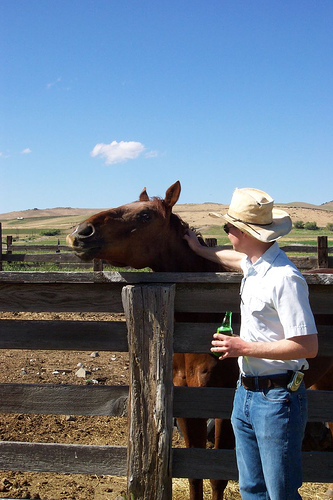without_mask: (221, 212, 276, 266)
